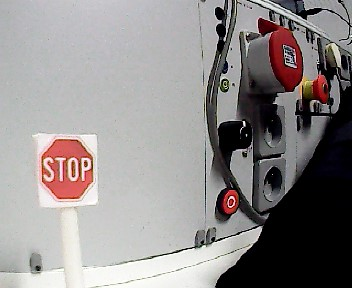stop-bord: (40, 135, 98, 203)
